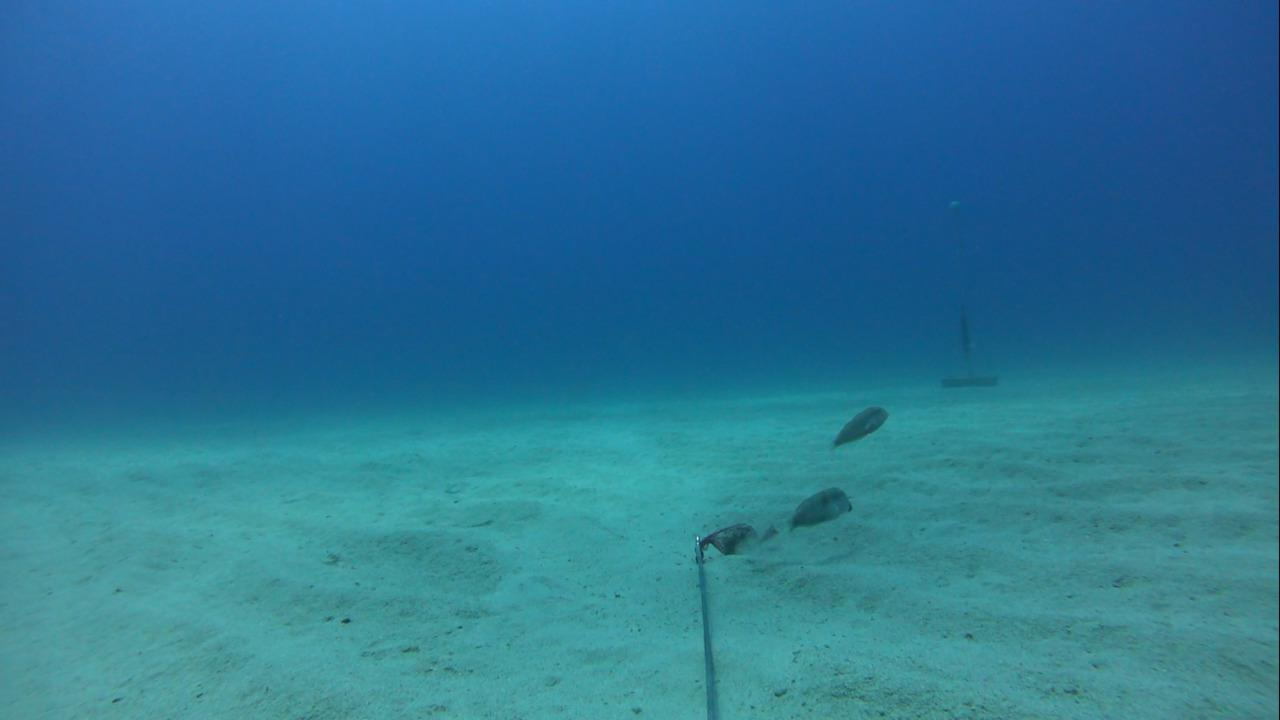raor: (777, 481, 860, 537), (823, 401, 889, 454)
